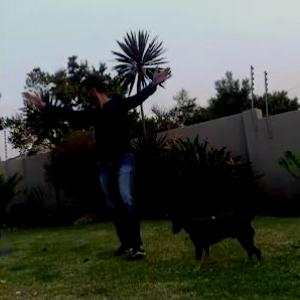takeoff: (27, 57, 177, 246)
